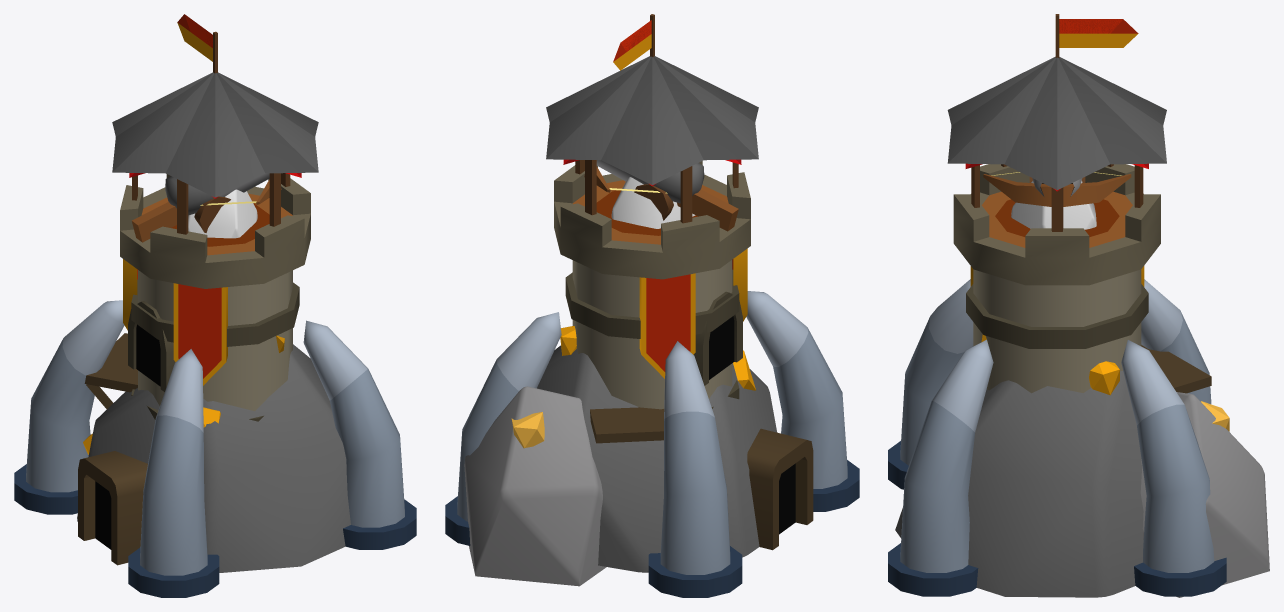
The model's file is Buildings.fbx.
3 renders of one model, left to right at view 1: azimuth 30°, elevation 25°; view 2: azimuth 150°, elevation 25°; view 3: azimuth 270°, elevation 25°, orthographic. The views are drawn at different scales.
Visible parts, largest first — view 1: CrystalHolder, GoldMine, ArcherTower_Lvl_1, CannonTower_Lvl_3, ArcherTower_Lvl_3, GoldMineBuilt, ArcherTower_Lvl_2, Crystal, Cannon, Ballista; view 2: GoldMine, CrystalHolder, ArcherTower_Lvl_1, CannonTower_Lvl_3, ArcherTower_Lvl_3, GoldMineBuilt, ArcherTower_Lvl_2, Cannon, Crystal, Ballista; view 3: GoldMine, CrystalHolder, ArcherTower_Lvl_1, CannonTower_Lvl_3, ArcherTower_Lvl_3, ArcherTower_Lvl_2, Ballista, Crystal, GoldMineBuilt.
Part boxes in pixels (x1=…): CrystalHolder: x1=14, y1=300, x2=416, y2=597; GoldMine: x1=77, y1=335, x2=350, y2=572; ArcherTower_Lvl_1: x1=120, y1=174, x2=310, y2=409; CannonTower_Lvl_3: x1=112, y1=14, x2=318, y2=198; ArcherTower_Lvl_3: x1=129, y1=14, x2=301, y2=419; GoldMineBuilt: x1=78, y1=333, x2=147, y2=565; ArcherTower_Lvl_2: x1=123, y1=259, x2=299, y2=421; Crystal: x1=188, y1=189, x2=257, y2=238; Cannon: x1=165, y1=173, x2=269, y2=232; Ballista: x1=132, y1=179, x2=281, y2=242; GoldMine: x1=464, y1=326, x2=777, y2=586; CrystalHolder: x1=445, y1=291, x2=859, y2=597; ArcherTower_Lvl_1: x1=554, y1=161, x2=750, y2=408; CannonTower_Lvl_3: x1=546, y1=21, x2=758, y2=217; ArcherTower_Lvl_3: x1=563, y1=14, x2=741, y2=409; GoldMineBuilt: x1=590, y1=407, x2=813, y2=550; ArcherTower_Lvl_2: x1=565, y1=248, x2=747, y2=398; Cannon: x1=596, y1=160, x2=704, y2=220; Crystal: x1=611, y1=177, x2=695, y2=228; Ballista: x1=584, y1=166, x2=738, y2=231; GoldMine: x1=895, y1=334, x2=1269, y2=597; CrystalHolder: x1=888, y1=279, x2=1226, y2=596; ArcherTower_Lvl_1: x1=953, y1=164, x2=1160, y2=393; CannonTower_Lvl_3: x1=947, y1=19, x2=1166, y2=190; ArcherTower_Lvl_3: x1=965, y1=14, x2=1148, y2=392; ArcherTower_Lvl_2: x1=966, y1=266, x2=1148, y2=348; Ballista: x1=983, y1=172, x2=1131, y2=206; Crystal: x1=1011, y1=180, x2=1096, y2=229; GoldMineBuilt: x1=1141, y1=345, x2=1211, y2=393.
Bounding box in the file's own units: 299 × 503 × 335.
Materials: 1 (1 with a texture image).
